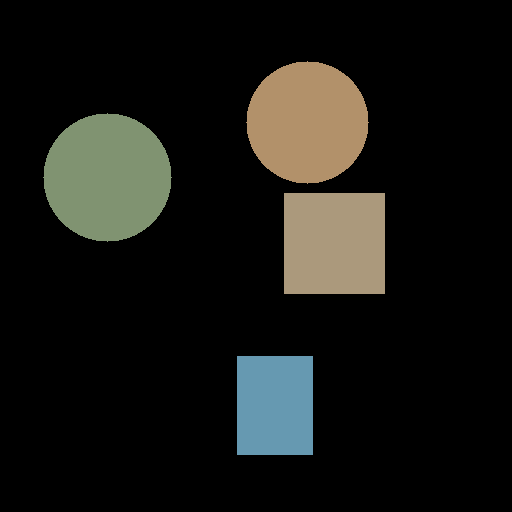circle: (43, 113, 171, 241), (246, 61, 368, 183)
rectangle: (237, 356, 312, 454)
square: (284, 193, 384, 293)
